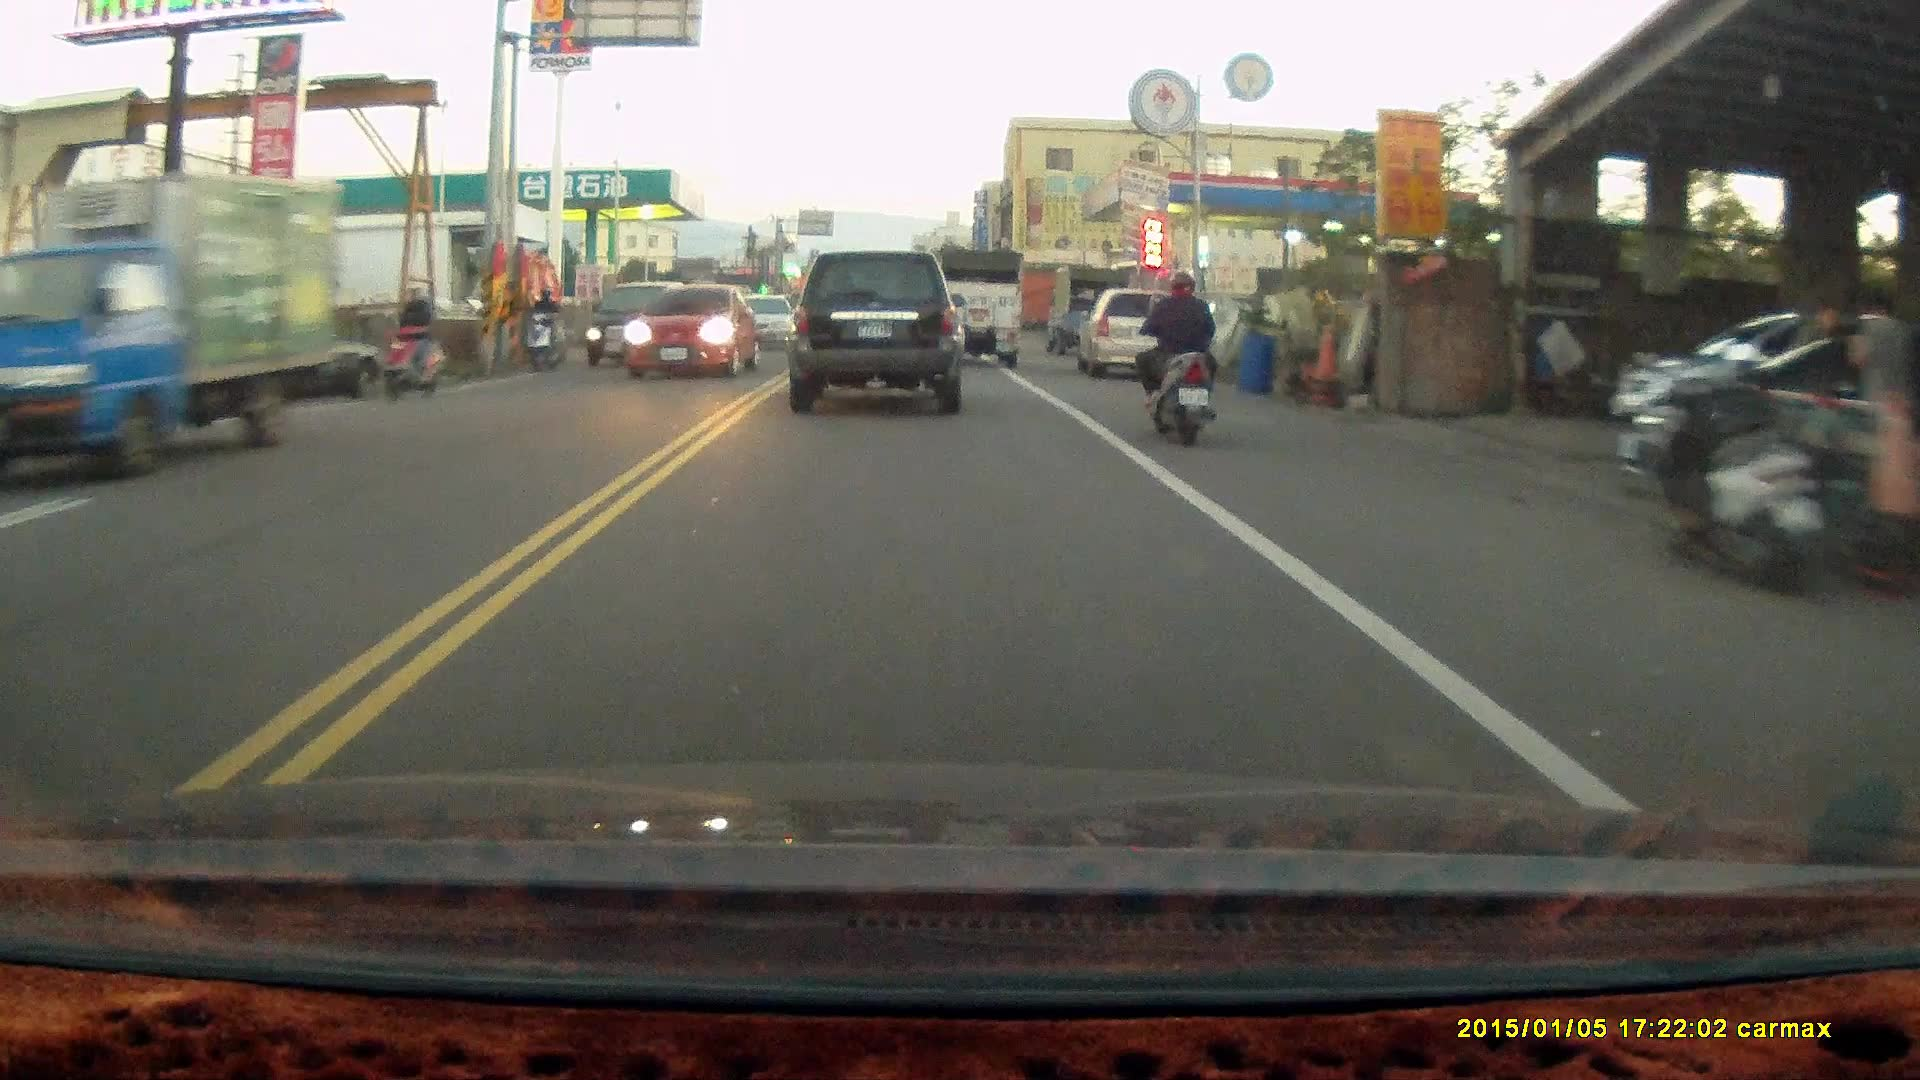pedestrian: (1849, 291, 1904, 451)
rider: (1135, 267, 1229, 446), (370, 285, 450, 400), (525, 286, 567, 370)
vehicle: (4, 163, 343, 477), (785, 249, 967, 417), (631, 284, 767, 384), (932, 245, 1024, 367), (1079, 286, 1191, 378), (585, 278, 689, 366)
